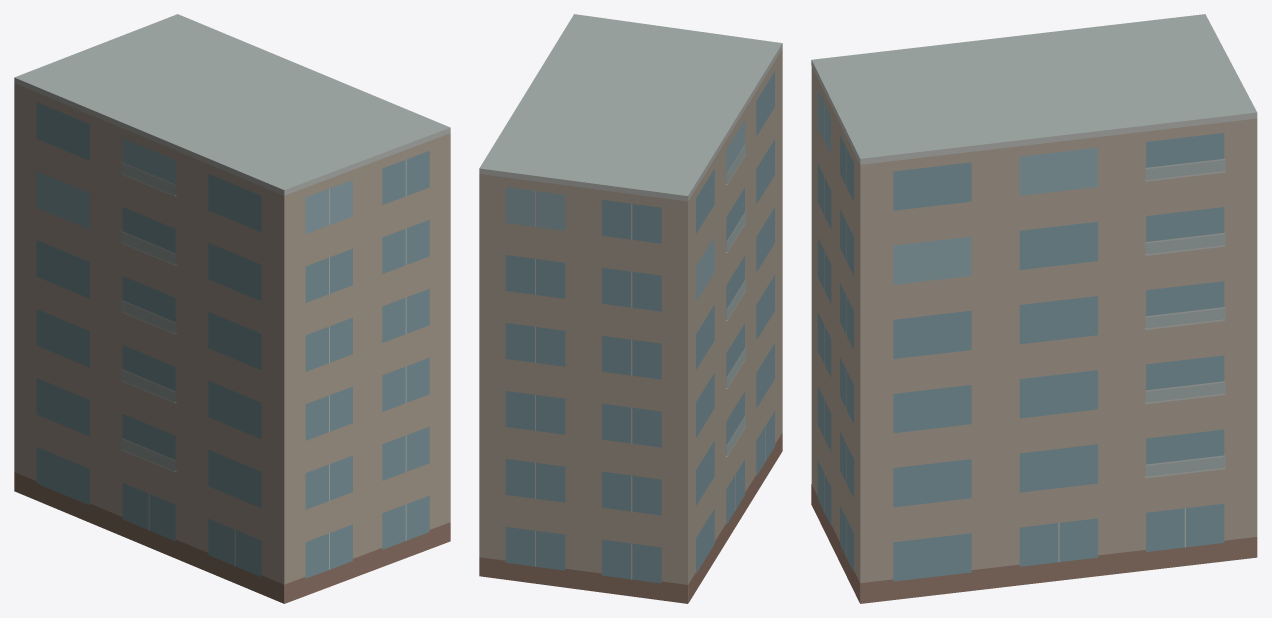
The model's file is survey-upis-32719799.glb.
The picture shows the model from 3 angles, left to right: view 1: azimuth 30°, elevation 25°; view 2: azimuth 150°, elevation 25°; view 3: azimuth 270°, elevation 25°; orthographic projection. The views are drawn at different scales.
Visible parts, largest first — view 1: survey-upis-32719799.tmp; view 2: survey-upis-32719799.tmp; view 3: survey-upis-32719799.tmp.
Boxes of the visible parts, bbox=[...] form: survey-upis-32719799.tmp: bbox=[14, 14, 450, 603]; survey-upis-32719799.tmp: bbox=[479, 14, 782, 603]; survey-upis-32719799.tmp: bbox=[811, 14, 1257, 603].
Bounding box in the file's own units: 12.79 × 18.3 × 16.63.
